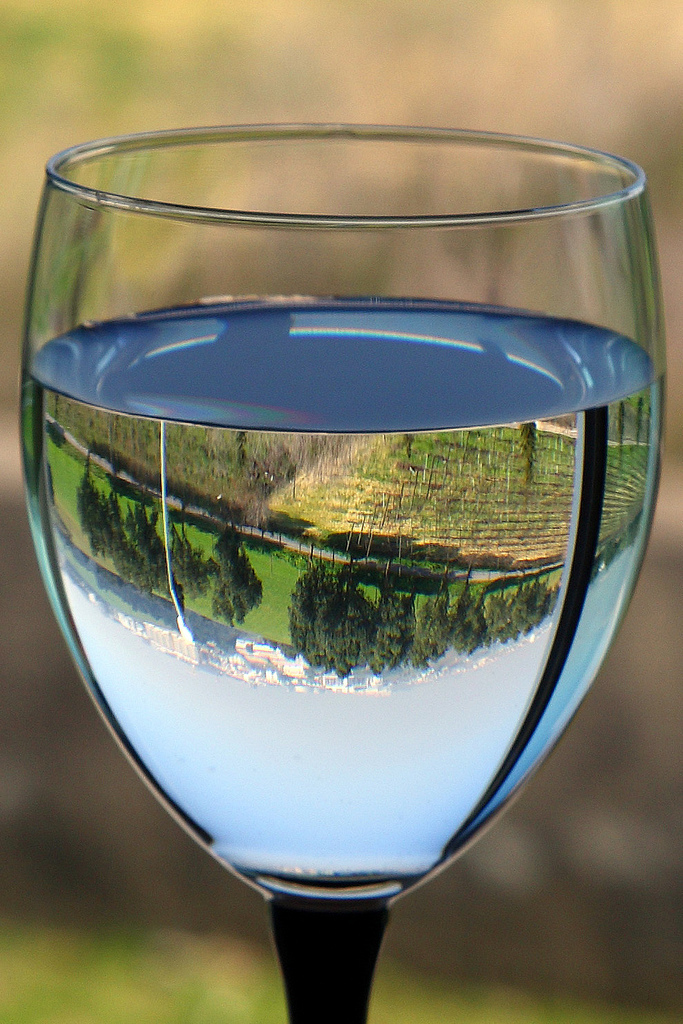glass of water: (65, 163, 548, 1024)
